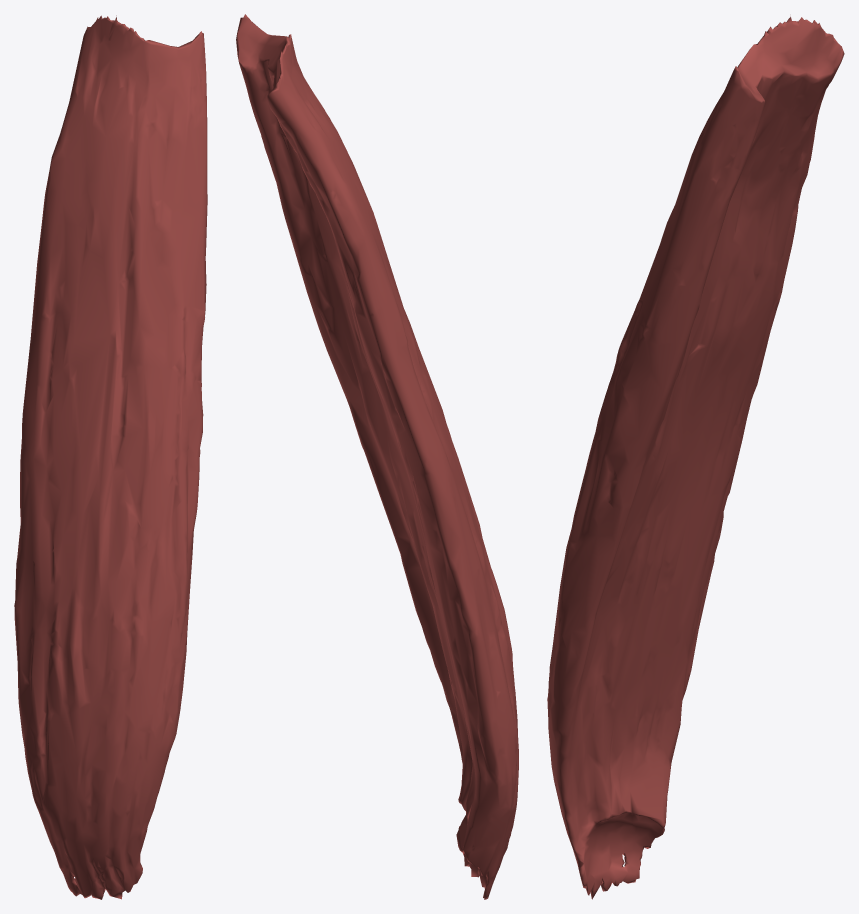
Rendered from FMA37397.glb.
3 renders of one model, left to right at view 1: azimuth 30°, elevation 25°; view 2: azimuth 150°, elevation 25°; view 3: azimuth 270°, elevation 25°, orthographic. The views are drawn at different scales.
Visible parts, largest first — view 1: FMA37397; view 2: FMA37397; view 3: FMA37397.
Part boxes in pixels (left/top/right/bottom): FMA37397: left=14, top=15, right=207, bottom=899; FMA37397: left=236, top=14, right=518, bottom=899; FMA37397: left=547, top=16, right=844, bottom=899.
Bounding box in the file's own units: 0.0176 × 0.0644 × 0.0186.
